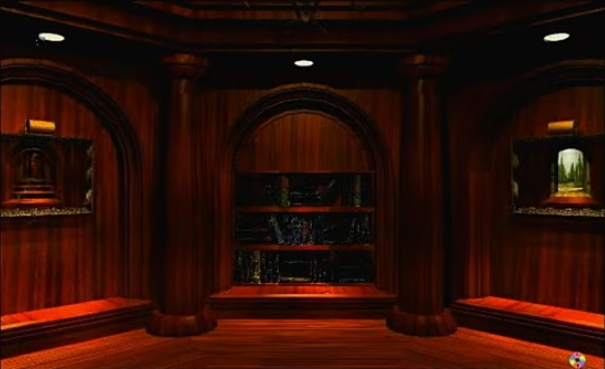Waiting: (566, 348, 589, 369)
